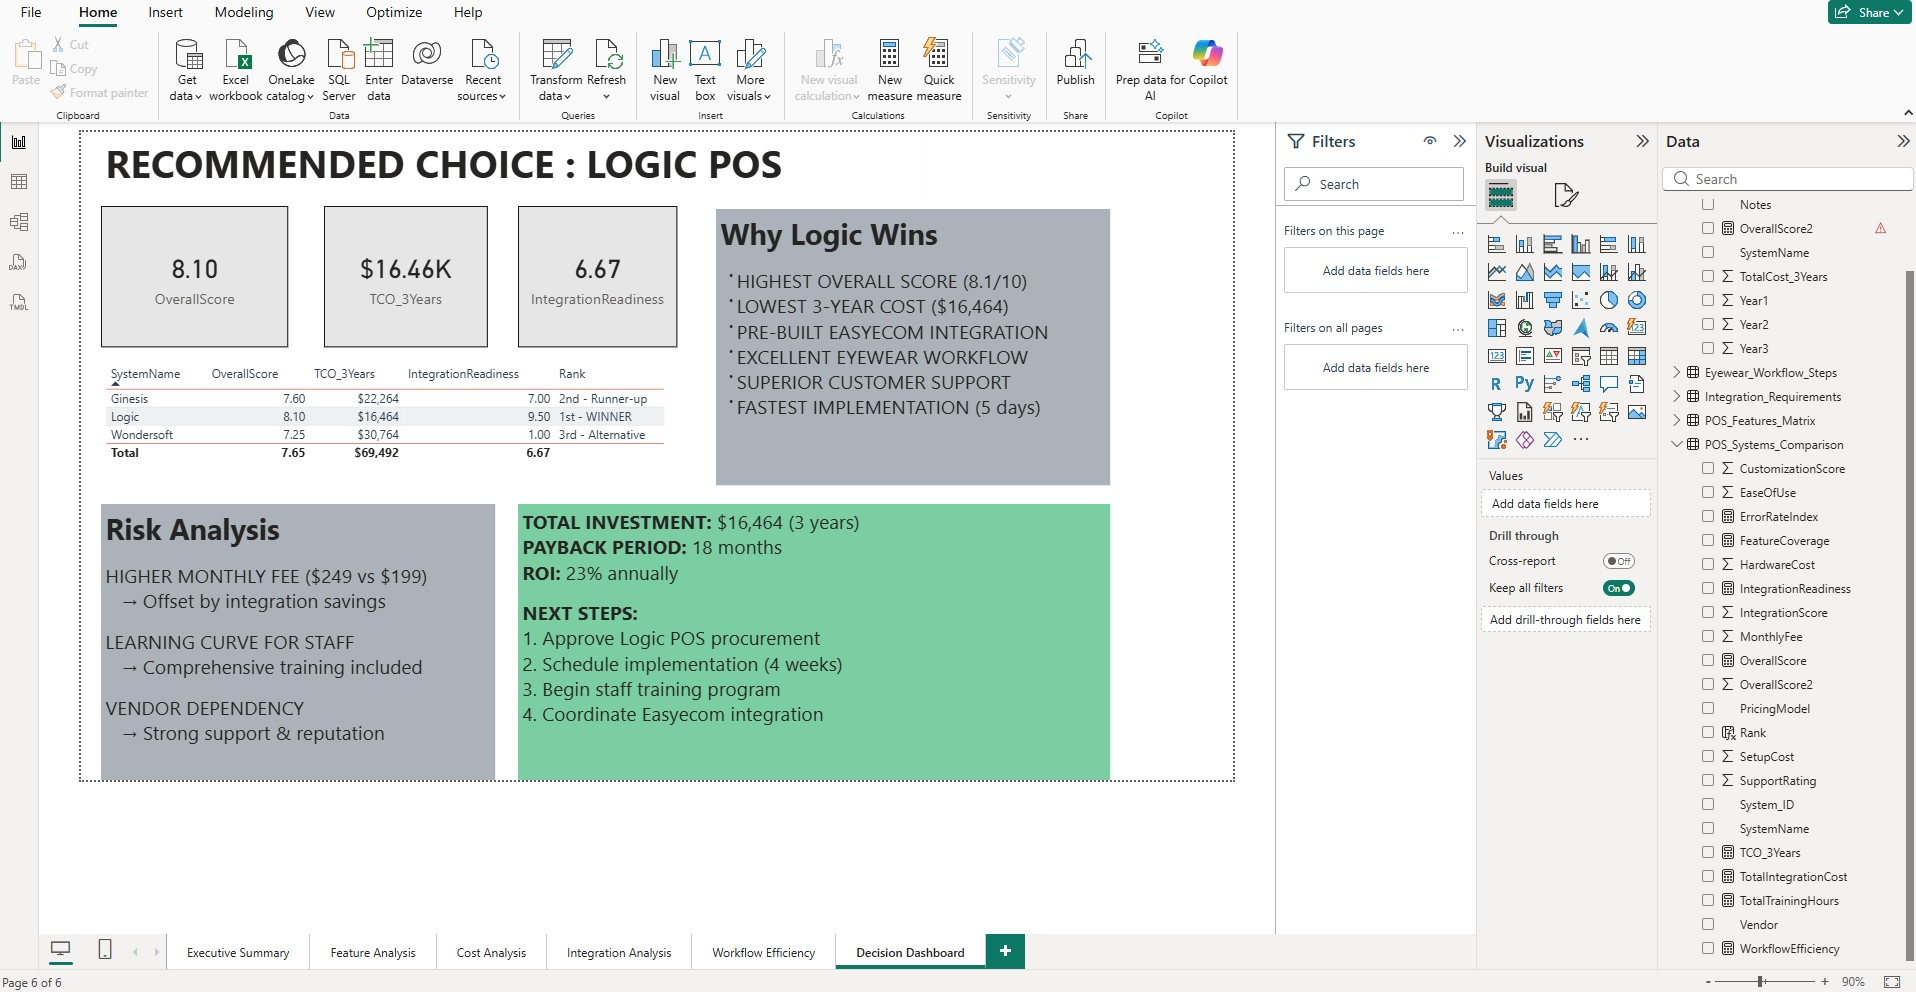

What the dashboard file says about the page in this screenshot:
{"tool":"powerbi","page":{"name":"Decision Dashboard","canvas":[1280,720],"ordinal":5},"visuals":[{"type":"textbox","box":[7,13,445,82],"z":0},{"type":"card","fields":{"Values":["POS_Systems_Comparison.TCO_3Years"]},"box":[270,81.7,181.7,156.7],"z":1000},{"type":"card","fields":{"Values":["POS_Systems_Comparison.IntegrationReadiness"]},"box":[485,81.7,176.7,156.7],"z":2000},{"type":"card","title":"Logic","fields":{"Values":["POS_Systems_Comparison.OverallScore1"]},"box":[21.7,81.7,208.3,156.7],"z":3000},{"type":"tableEx","fields":{"Values":["POS_Systems_Comparison.SystemName","POS_Systems_Comparison.OverallScore","POS_Systems_Comparison.TCO_3Years","POS_Systems_Comparison.IntegrationReadiness","POS_Systems_Comparison.Rank"]},"box":[21.7,253.3,640,138.3],"z":4000},{"type":"textbox","box":[705,85,438.3,306.7],"z":5000},{"type":"textbox","box":[21.7,413.3,438.3,306.7],"z":6000},{"type":"textbox","box":[485,413.3,658.3,306.7],"z":7000},{"type":"textbox","box":[21.7,0,915,78.3],"z":8000}]}

Visuals, with their boxes on the page's 1280x720 design canvas (x1, y1, x2, y2). These are canvas units, not pixel positions in the 1916x992 screenshot, which may show the page scaled, cropped or inside an application window:
textbox: bbox=[7, 13, 452, 95]
card - POS_Systems_Comparison.TCO_3Years: bbox=[270, 82, 452, 238]
card - POS_Systems_Comparison.IntegrationReadiness: bbox=[485, 82, 662, 238]
"Logic" card: bbox=[22, 82, 230, 238]
tableEx - POS_Systems_Comparison.SystemName x POS_Systems_Comparison.OverallScore: bbox=[22, 253, 662, 392]
textbox: bbox=[705, 85, 1143, 392]
textbox: bbox=[22, 413, 460, 720]
textbox: bbox=[485, 413, 1143, 720]
textbox: bbox=[22, 0, 937, 78]
